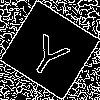Y: (24, 25, 76, 82)
